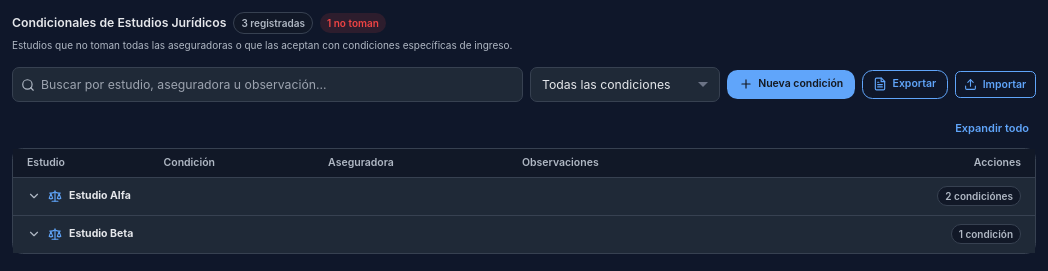
CondicionalesView (1.9.4 · contadores y filtro) › al filtrar por select también actualiza el contador
The image size is (1048, 271).
Select "No toman aseguradoras" in the dropdown: [625, 84] box [530,67,720,102]
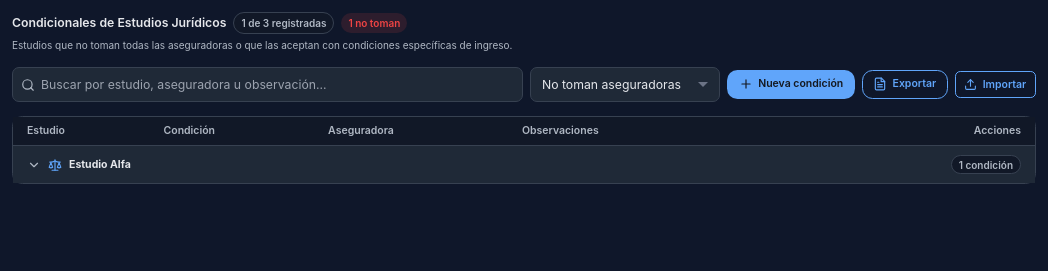
Expected: the text "1 de 3 registradas" is shown, [233,12,334,34]
